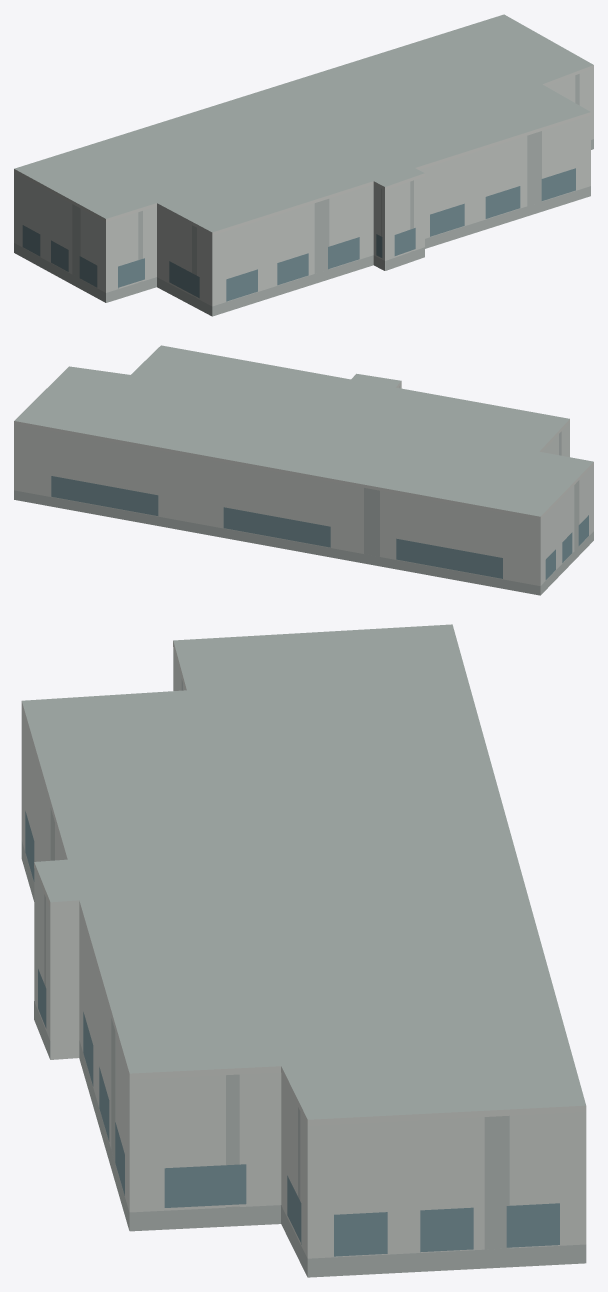
File: survey-upis-32573929.glb
3 views of the same model, one above another, from view 1: azimuth 30°, elevation 25°; view 2: azimuth 150°, elevation 25°; view 3: azimuth 270°, elevation 25° (orthographic). The views are drawn at different scales.
Parts seen in each view (by area): view 1: survey-upis-32573929.tmp; view 2: survey-upis-32573929.tmp; view 3: survey-upis-32573929.tmp.
Boxes of the visible parts, left/top/right/bottom form: survey-upis-32573929.tmp: left=14, top=14, right=593, bottom=316; survey-upis-32573929.tmp: left=14, top=345, right=593, bottom=595; survey-upis-32573929.tmp: left=21, top=624, right=586, bottom=1277.
Size of the model in its own units: 41.1 by 6.1 by 19.8.
